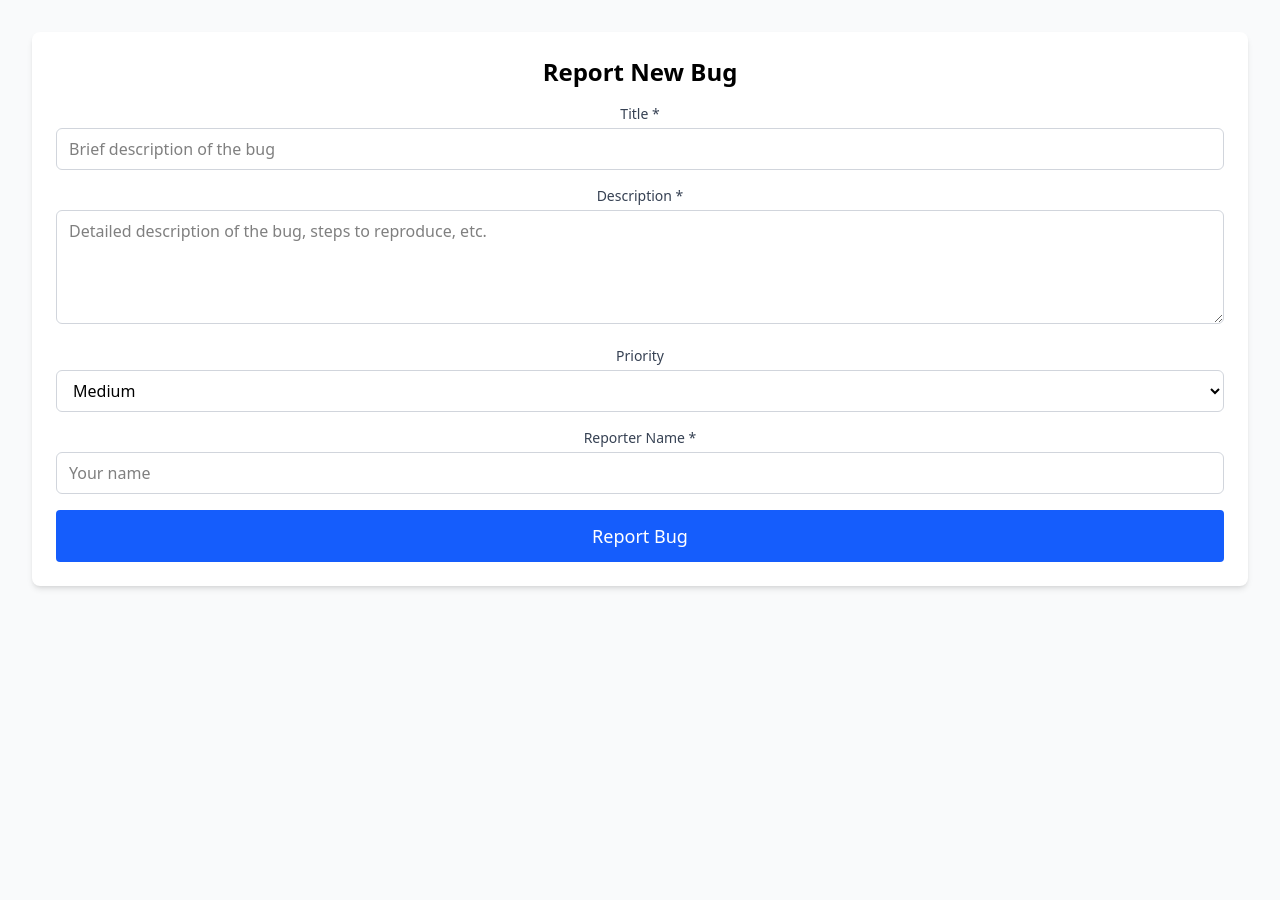
Test: BugForm Component › shows validation errors for empty required fields
The image size is (1280, 900).
Step 1. Click the button "Report Bug" → (640, 536), box [56,510,1224,562]
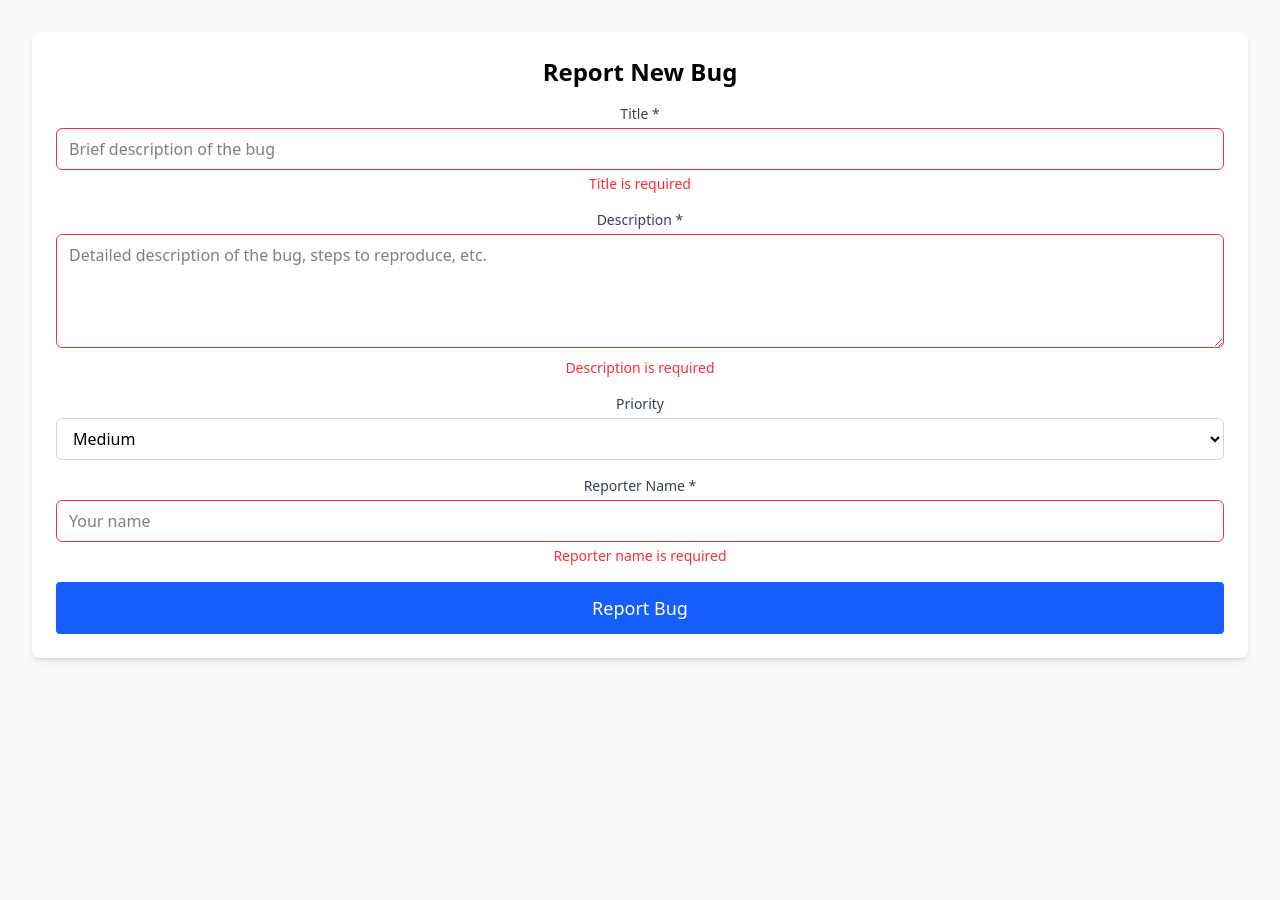
Expected: the text "Title is required" is shown, [589,174,691,193]
Expected: the text "Description is required" is shown, [565,358,715,377]
Expected: the text "Reporter name is required" is shown, [553,546,727,565]
